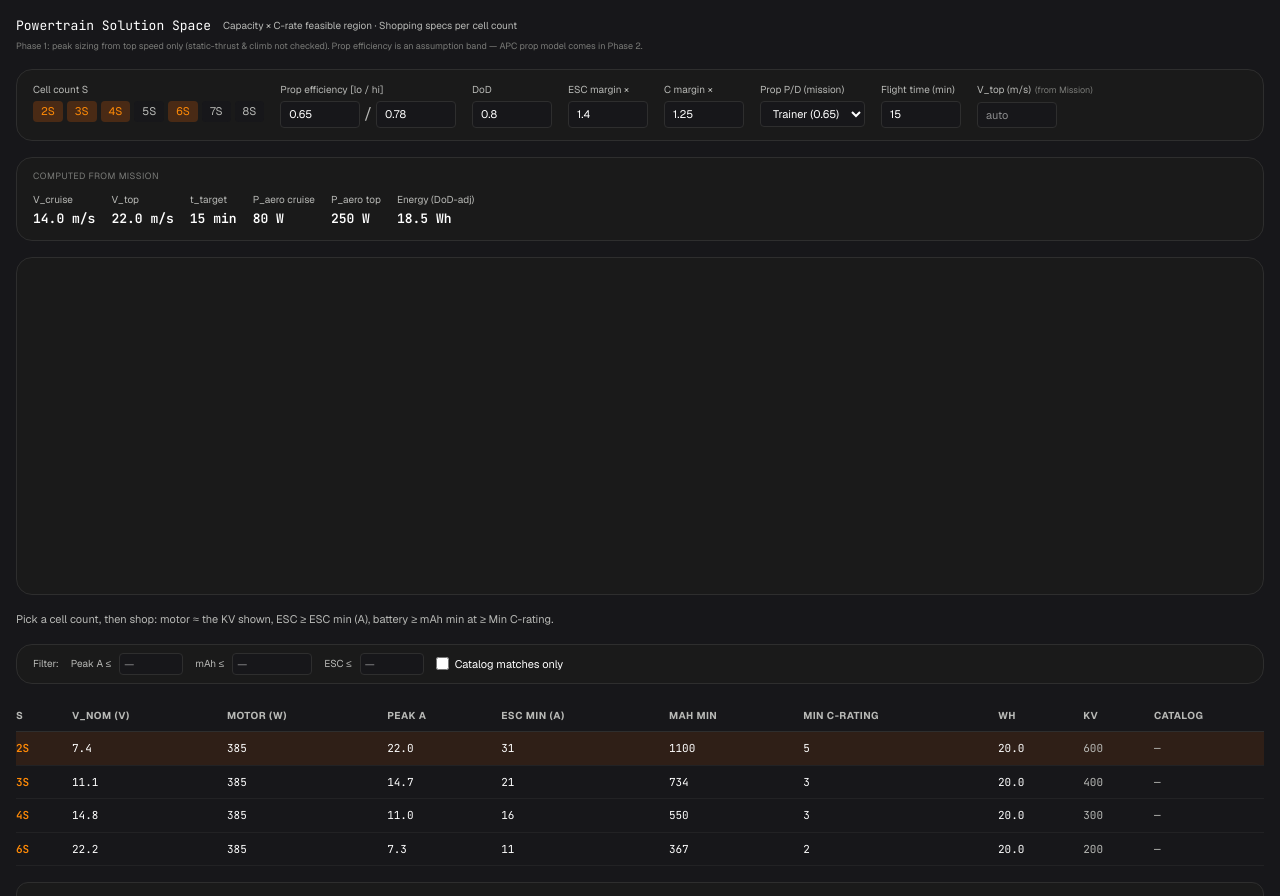
Test: PowertrainTab — labels, guidance, scope note › shows the V_top '(from Mission)' hint when v_top is auto-derived
The image size is (1280, 896).
Expected: the text "(from Mission)" is shown, [1035, 84, 1093, 96]
Setting V_top removes the hint.
In the number field with test id "v-top-input": [1017, 115] box [977, 102, 1057, 128], type "25"
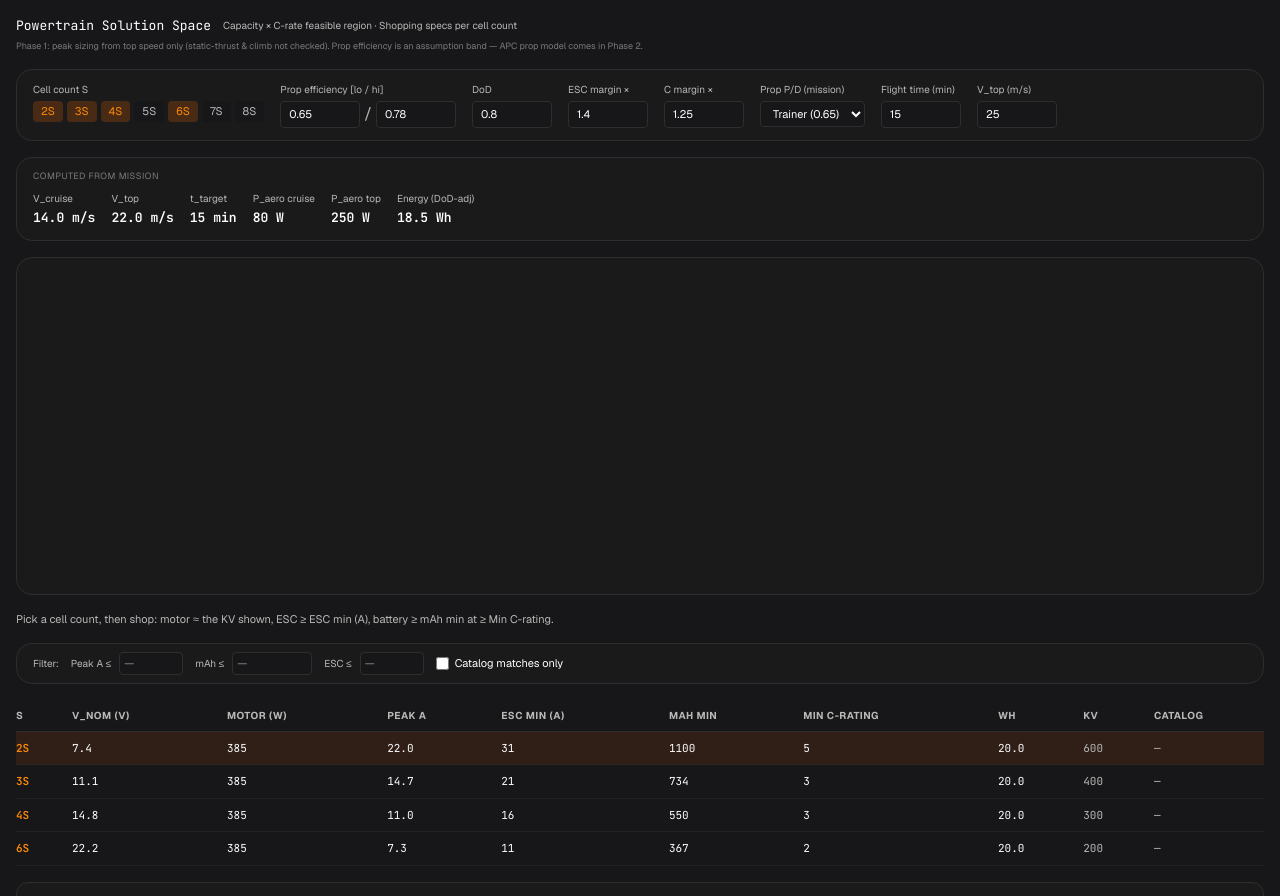
Expected: the text with test id "v-top-from-mission" is gone
